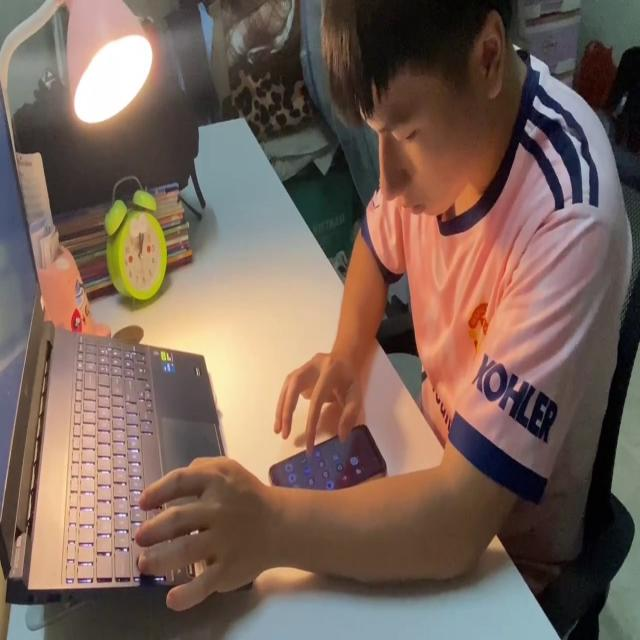laptop: (1, 76, 256, 595)
phone: (261, 412, 391, 492)
student: (124, 0, 640, 621)
